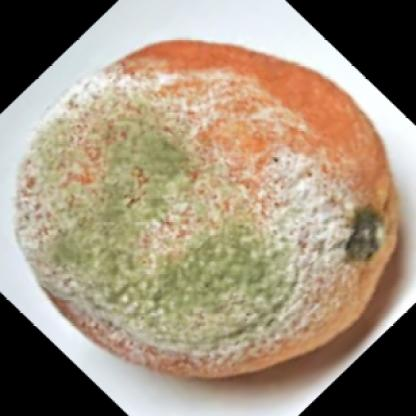rotten: (18, 38, 402, 385)
